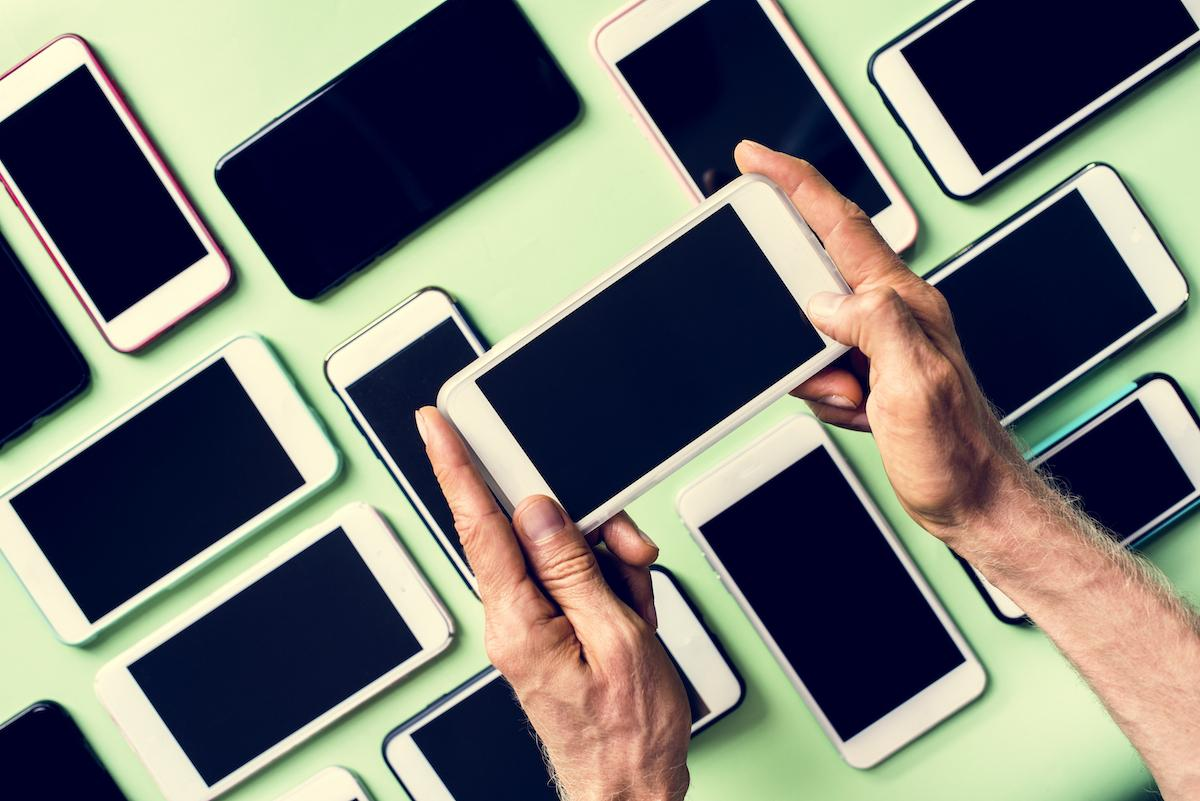Hand: (409, 399, 679, 746), (724, 127, 967, 480)
Smartphone: (436, 172, 854, 539), (672, 393, 990, 772), (213, 1, 586, 302), (1, 332, 348, 648), (93, 500, 455, 794), (591, 1, 921, 256), (0, 32, 235, 355), (922, 160, 1191, 427), (867, 0, 1200, 200), (1019, 371, 1199, 552), (0, 237, 93, 450), (0, 699, 125, 798)
